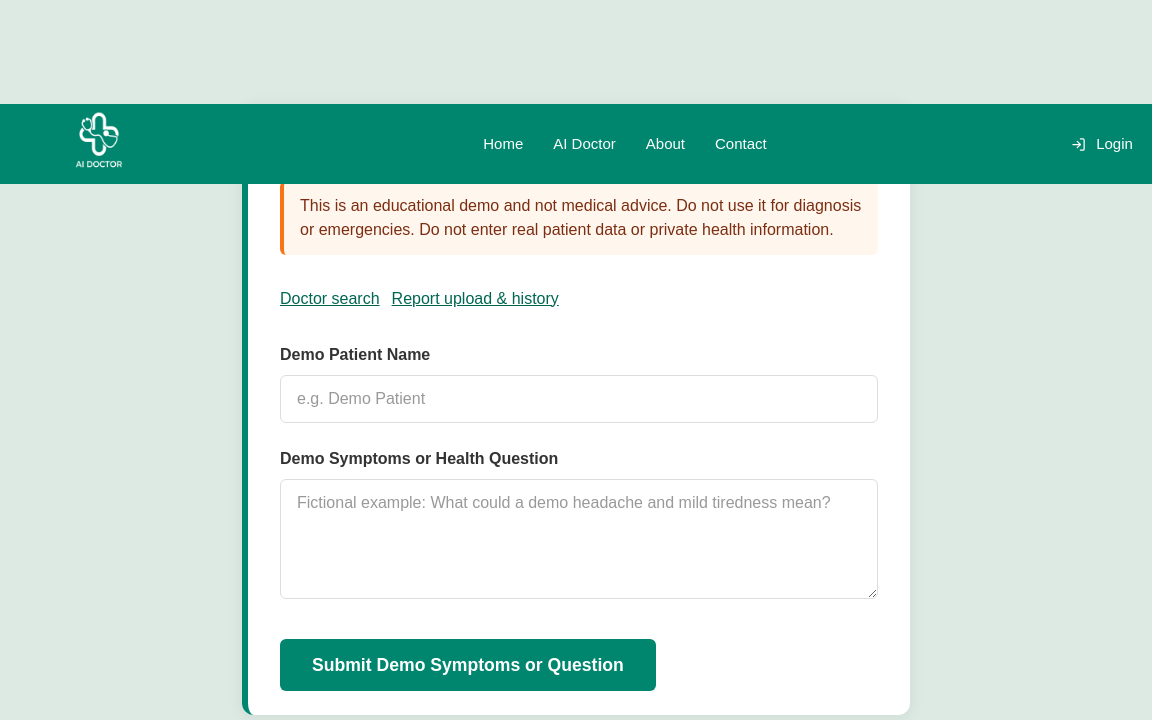
SymptomChecker › submits a fictional health question with the unchanged API contract
The width and height of the screenshot is (1152, 720).
Type "Demo Patient" into the field labelled "Demo Patient Name". click: (579, 399)
box: left=280, top=375, right=878, bottom=423
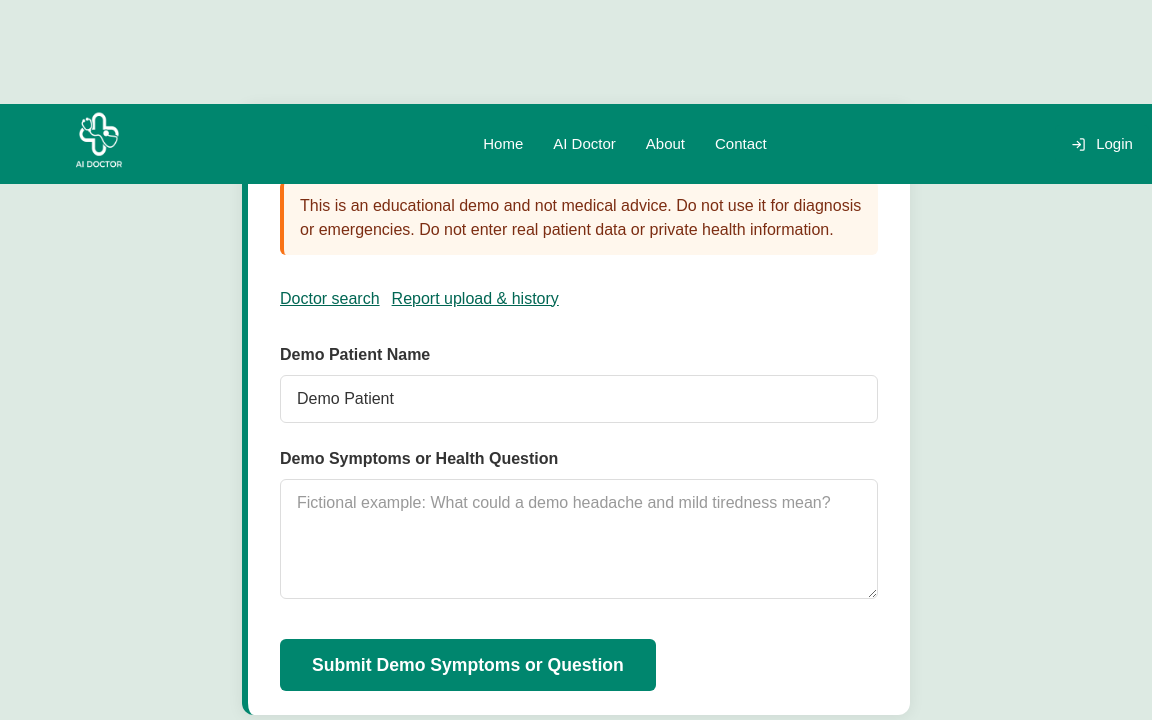
Replace the text in the text box labelled "Demo Symptoms or Health Question" with "  What could a fictional mild headache mean?  ". click: (579, 539)
box: left=280, top=479, right=878, bottom=599
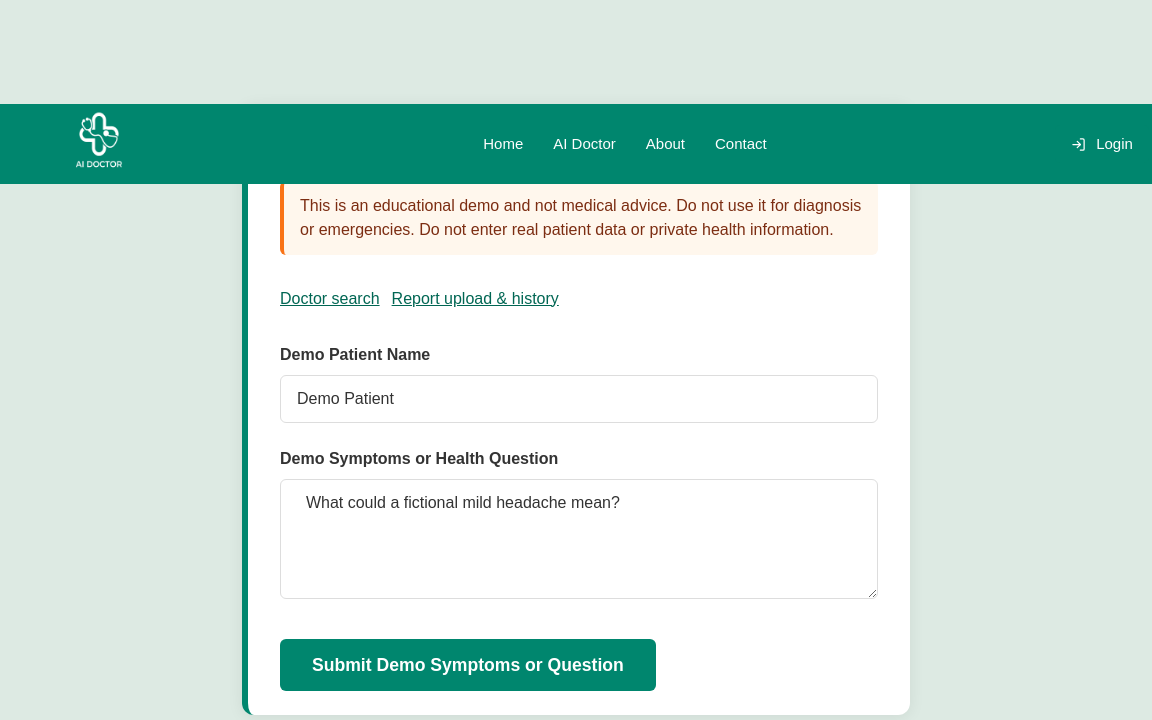
Click the button "Submit Demo Symptoms or Question". click: click(468, 665)
box: left=280, top=639, right=656, bottom=691
(page scrolled)
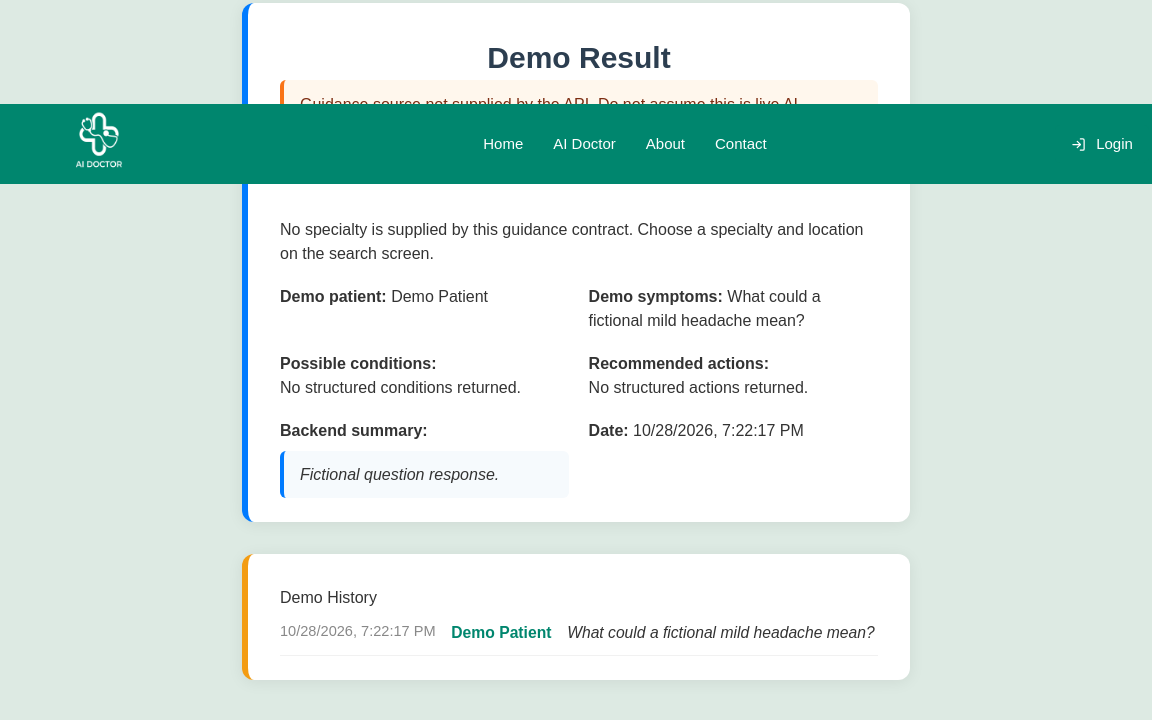
Check: the text "Fictional question response." is shown, box left=280, top=452, right=569, bottom=498
